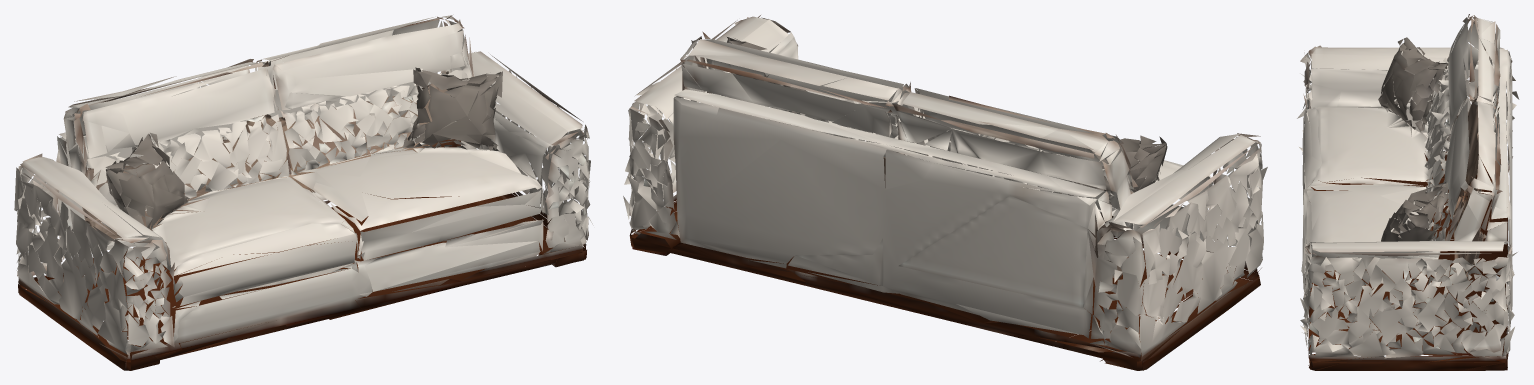
File: jetsofa.glb
3 views of the same model, side by side, from view 1: azimuth 30°, elevation 25°; view 2: azimuth 150°, elevation 25°; view 3: azimuth 270°, elevation 25° (orthographic). The views are drawn at different scales.
Parts seen in each view (by area): view 1: LO.001; view 2: LO.001; view 3: LO.001.
Part boxes in pixels (left/top/right/bottom): LO.001: left=14, top=15, right=593, bottom=370; LO.001: left=623, top=15, right=1267, bottom=370; LO.001: left=1297, top=14, right=1519, bottom=370.
Bounding box in the file's own units: 1.96 × 0.7426 × 0.8568.
1 material, 1 textured.
